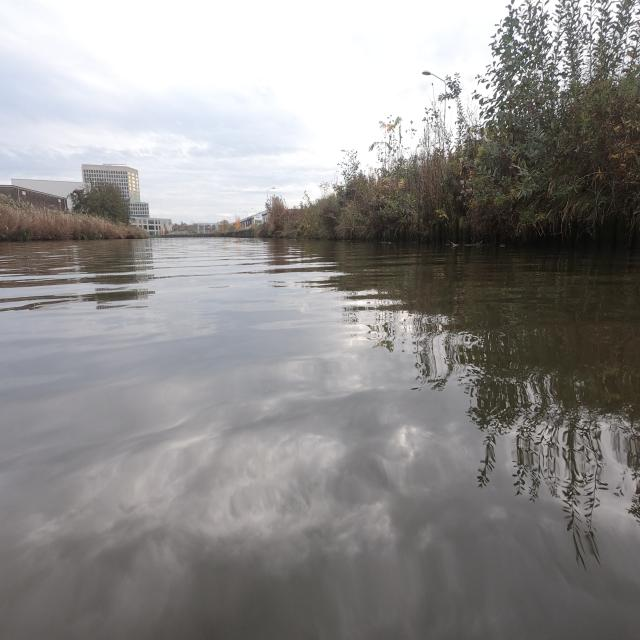reed: (263, 0, 640, 249), (1, 200, 146, 240)
sky: (1, 2, 500, 220)
water: (1, 233, 639, 639)
